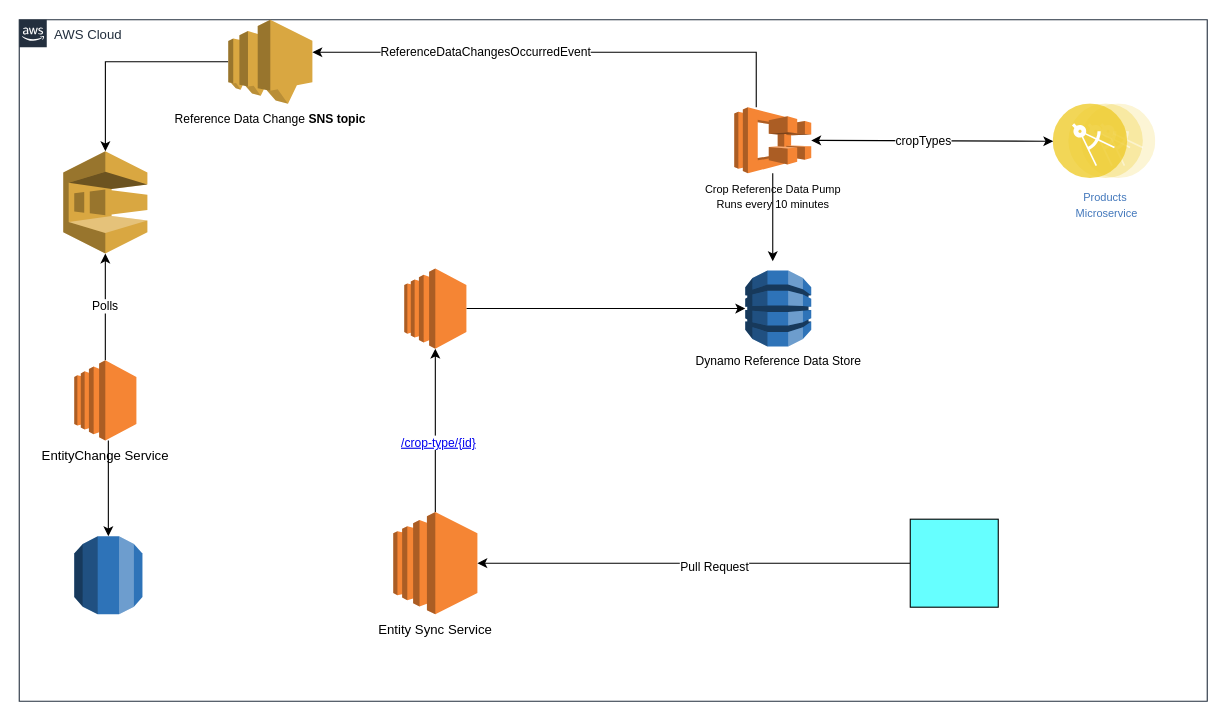
The diagram is 1227 pixels wide and 721 high, and some of its shapes have lost their labels. Here are the shapes that lost their labels. From the top down, the box of each, then its label:
(62, 150, 147, 254): EntitySyncChangeQueue
(403, 267, 466, 349): Reference Data Service
(73, 535, 142, 614): Postgres Changelog Tables
(909, 518, 998, 607): Gen 4 Display
